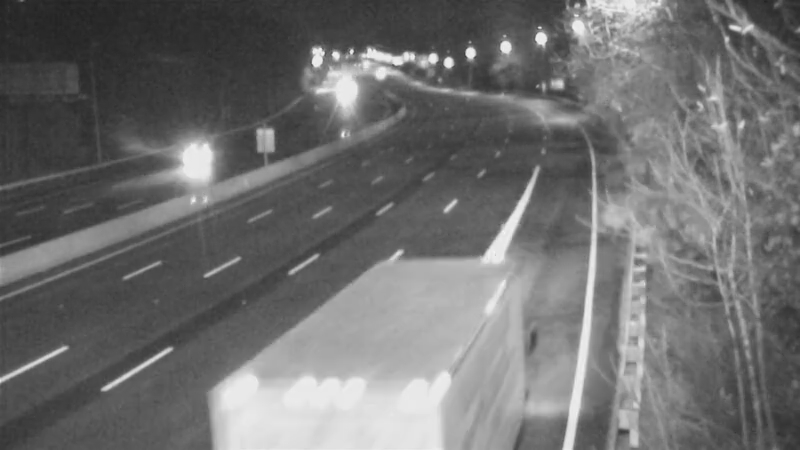vehicle: (372, 287, 482, 397), (168, 120, 248, 200), (315, 65, 365, 115)
